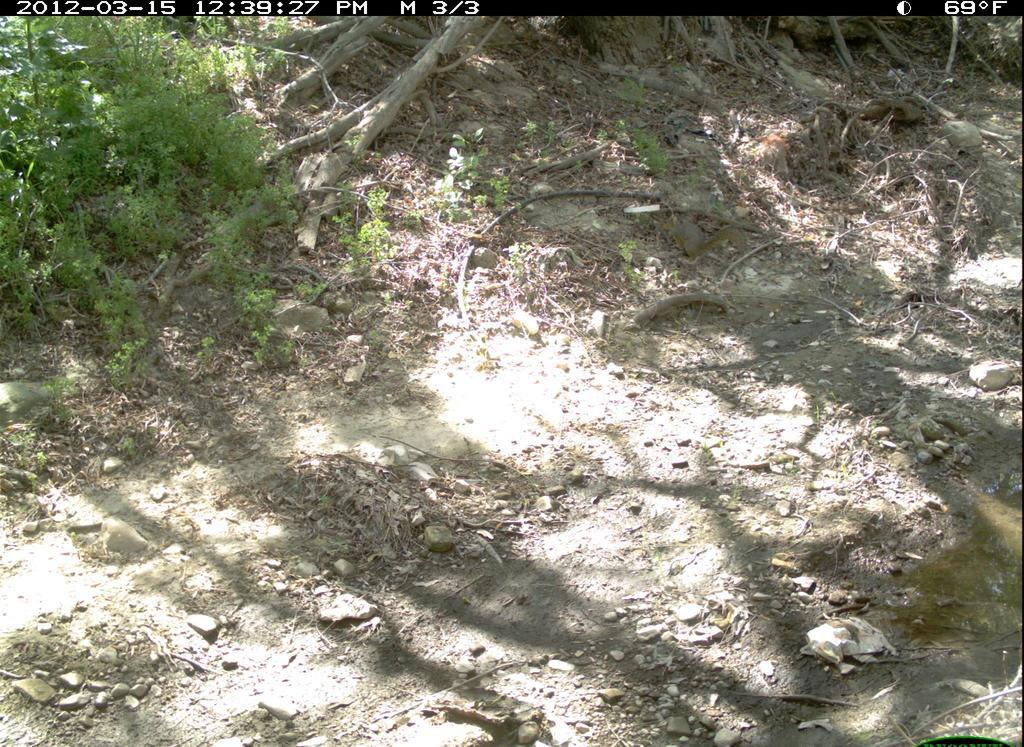squirrel: (664, 212, 753, 265)
